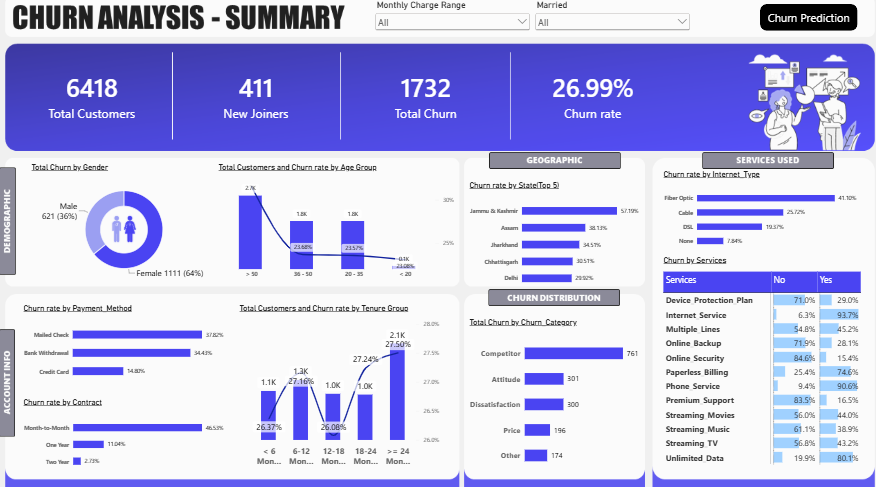

Layout of this report page (visuals, bound fields, positions):
{"tool":"powerbi","page":{"name":"Summary","canvas":[1920,1080],"ordinal":0},"visuals":[{"type":"image","box":[238.6,477.1,73.7,75.9],"z":0},{"type":"lineStackedColumnComboChart","fields":{"Category":["mapping_AgeGrp.Age Group"],"Y":["New Measures.Total Customers"],"Y2":["New Measures.Churn rate"]},"box":[464.1,357.8,544.3,286.3],"z":1000},{"type":"clusteredBarChart","fields":{"Category":["prod_churn.Payment_Method"],"Y":["New Measures.Churn rate"]},"box":[41.2,663.6,466.3,203.9],"z":2000},{"type":"clusteredBarChart","fields":{"Category":["prod_churn.Contract"],"Y":["New Measures.Churn rate"]},"box":[41.2,867.5,466.3,193],"z":3000},{"type":"lineStackedColumnComboChart","fields":{"Category":["mapping_TenureGrp.Tenure Group"],"Y":["New Measures.Total Customers"],"Y2":["New Measures.Churn rate"]},"box":[509.6,663.6,481.4,386],"z":4000},{"type":"clusteredBarChart","title":"Churn rate by State(Top 5)","fields":{"Category":["prod_churn.State"],"Y":["New Measures.Churn rate"]},"box":[1008.4,396.9,399,266.7],"z":5000},{"type":"clusteredBarChart","fields":{"Category":["prod_churn.Churn_Category"],"Y":["New Measures.Total Churn"]},"box":[1008.4,694,399,366.5],"z":6000},{"type":"clusteredBarChart","fields":{"Category":["prod_churn.Internet_Type"],"Y":["New Measures.Churn rate"]},"box":[1429.2,373,468.4,206],"z":7000},{"type":"pivotTable","title":"Churn by Services","fields":{"Columns":["prod_services.Status"],"Rows":["prod_services.Services"],"Values":["Sum(prod_services.Churn Status)"]},"box":[1429.2,559.5,468.4,501],"z":8000},{"type":"slicer","fields":{"Values":["prod_churn.Monthly Charge Status"]},"box":[816.4,20.2,344.8,75.9],"z":9000},{"type":"slicer","fields":{"Values":["prod_churn.Married"]},"box":[1161.6,20.2,344.8,75.9],"z":10000},{"type":"cardVisual","fields":{"Data":["New Measures.Total Customers"]},"box":[41.2,134.5,329.6,188.7],"z":11000},{"type":"cardVisual","fields":{"Data":["New Measures.New Joiners"]},"box":[396.9,134.5,329.6,188.7],"z":12000},{"type":"cardVisual","fields":{"Data":["New Measures.Total Churn"]},"box":[765.5,134.5,329.6,188.7],"z":13000},{"type":"cardVisual","fields":{"Data":["New Measures.Churn rate"]},"box":[1127.7,134.5,329.6,188.7],"z":14000},{"type":"donutChart","fields":{"Category":["prod_churn.Gender"],"Y":["New Measures.Total Churn"]},"box":[58.6,357.8,433.7,286.3],"z":15000},{"type":"actionButton","box":[1655.4,27.7,211.7,58],"z":15001}]}

Visuals, with their boxes in screenshot pixels (x1, y1, x2, y2), scaled from the page's 1920x1080 canvas onto the 876x487 screenshot:
image: 109/215/142/249
lineStackedColumnComboChart - mapping_AgeGrp.Age Group x New Measures.Total Customers: 212/161/460/290
clusteredBarChart - prod_churn.Payment_Method x New Measures.Churn rate: 19/299/232/391
clusteredBarChart - prod_churn.Contract x New Measures.Churn rate: 19/391/232/478
lineStackedColumnComboChart - mapping_TenureGrp.Tenure Group x New Measures.Total Customers: 233/299/452/473
"Churn rate by State(Top 5)" clusteredBarChart: 460/179/642/299
clusteredBarChart - prod_churn.Churn_Category x New Measures.Total Churn: 460/313/642/478
clusteredBarChart - prod_churn.Internet_Type x New Measures.Churn rate: 652/168/866/261
"Churn by Services" pivotTable: 652/252/866/478
slicer - prod_churn.Monthly Charge Status: 372/9/530/43
slicer - prod_churn.Married: 530/9/687/43
cardVisual - New Measures.Total Customers: 19/61/169/146
cardVisual - New Measures.New Joiners: 181/61/331/146
cardVisual - New Measures.Total Churn: 349/61/500/146
cardVisual - New Measures.Churn rate: 515/61/665/146
donutChart - prod_churn.Gender x New Measures.Total Churn: 27/161/225/290
actionButton: 755/12/852/39
